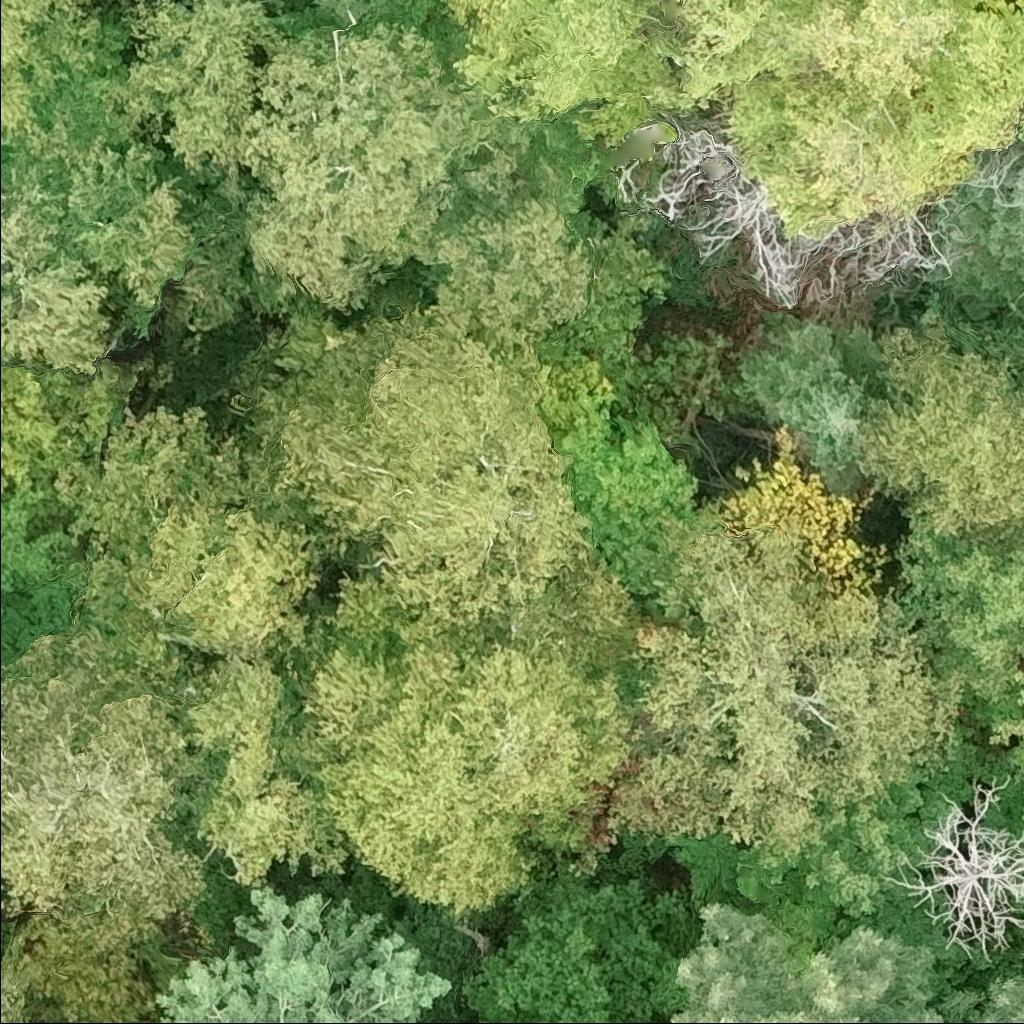crown: (143, 883, 455, 1023), (654, 900, 959, 1023), (938, 946, 1023, 1023)
